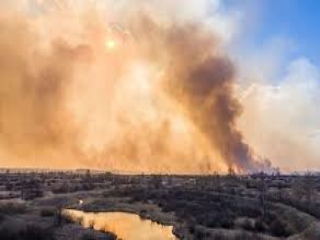smoke: (155, 26, 281, 175)
